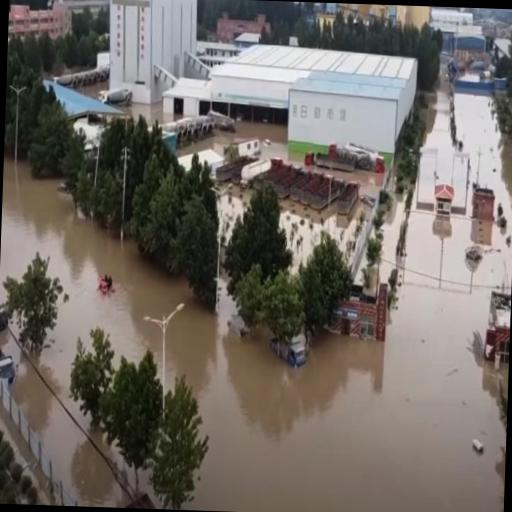flood: (0, 90, 512, 512), (178, 121, 386, 194), (278, 199, 372, 274), (414, 88, 457, 192), (213, 182, 251, 244), (122, 101, 183, 126), (80, 81, 107, 94), (459, 74, 481, 83)
house: (100, 0, 197, 118), (282, 74, 400, 150), (7, 2, 70, 61), (332, 290, 382, 344), (482, 282, 510, 368), (216, 16, 267, 46), (453, 30, 490, 67)
